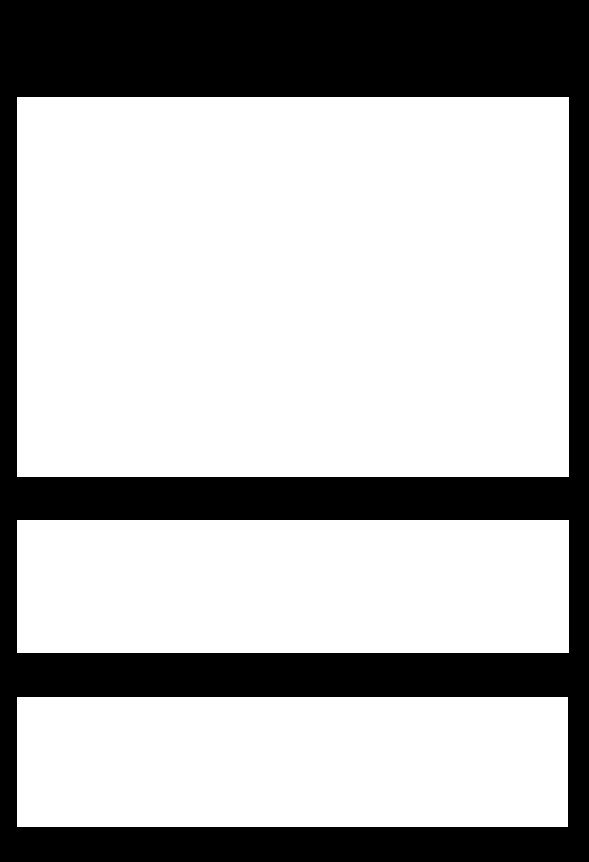table: (17, 97, 568, 476), (17, 520, 568, 652), (17, 697, 567, 826)
